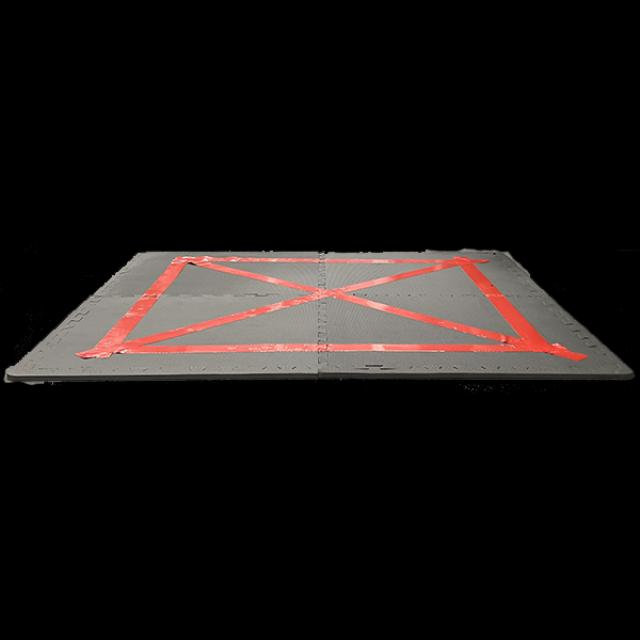landingPads: (4, 246, 633, 383)
